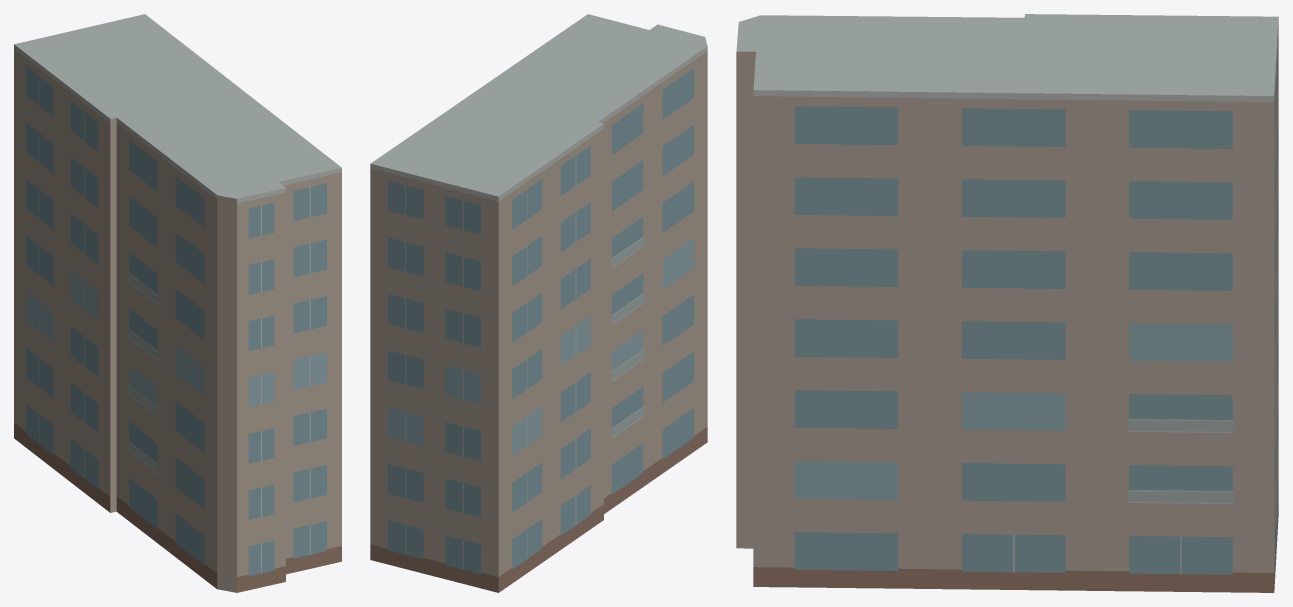
Rendered from survey-upis-32925421.glb.
3 views of the same model, side by side, from view 1: azimuth 30°, elevation 25°; view 2: azimuth 150°, elevation 25°; view 3: azimuth 270°, elevation 25° (orthographic). The views are drawn at different scales.
Parts seen in each view (by area): view 1: survey-upis-32925421.tmp; view 2: survey-upis-32925421.tmp; view 3: survey-upis-32925421.tmp.
Boxes of the visible parts, bbox=[...] form: survey-upis-32925421.tmp: bbox=[14, 14, 341, 592]; survey-upis-32925421.tmp: bbox=[370, 14, 707, 592]; survey-upis-32925421.tmp: bbox=[736, 14, 1278, 592].
Size of the model in its own units: 7.1 by 20 by 19.79.
